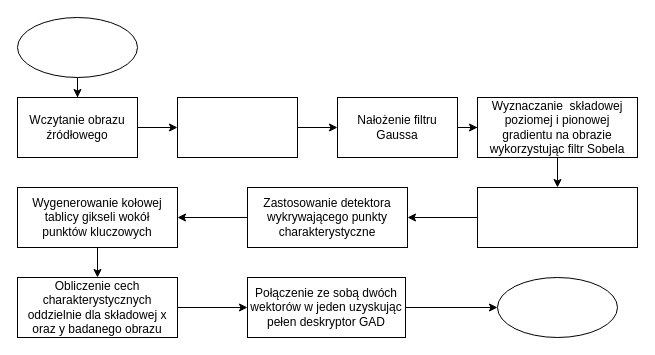
This 655x355 diagram has some shape labels left out. The box of each missing label's shape, as (x1, y1, x2, y2) in pixels:
Przekształcenie obrazu na typ monochromatyczny: (176, 96, 298, 158)
START: (16, 16, 138, 78)
STOP: (496, 276, 618, 338)
Zastosowanie funkcji non_maksimum_suppression i uzyskanie obrazów krawędziowych: (476, 186, 638, 248)
